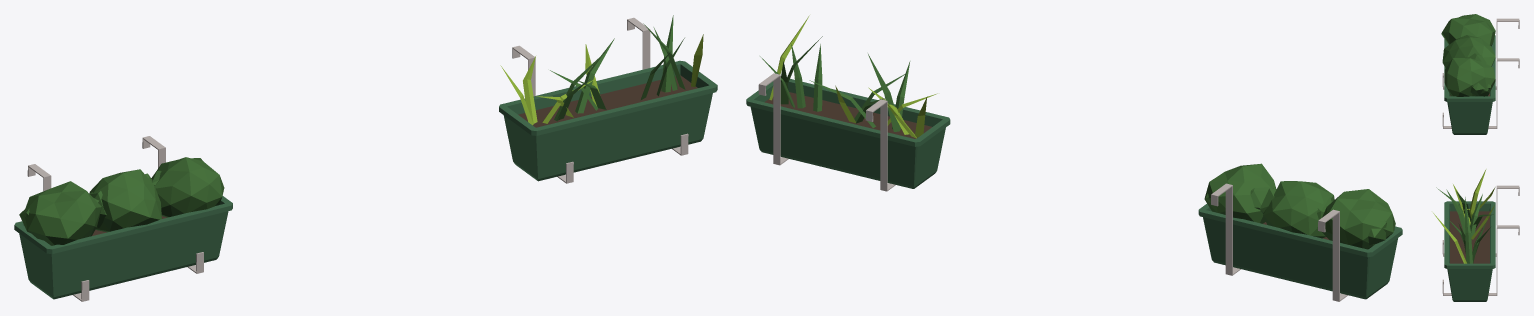
The model's file is SM_Fixture_RailPlanterShort25620_Alu_Green_01.gltf.
3 renders of one model, left to right at view 1: azimuth 30°, elevation 25°; view 2: azimuth 150°, elevation 25°; view 3: azimuth 270°, elevation 25°, orthographic. The views are drawn at different scales.
Visible parts, largest first — view 1: SM_Fixture_RailPlanterShort25620_Alu_Green_01; view 2: SM_Fixture_RailPlanterShort25620_Alu_Green_01; view 3: SM_Fixture_RailPlanterShort25620_Alu_Green_01.
Boxes of the visible parts, x1,y1,x2,y2 form: SM_Fixture_RailPlanterShort25620_Alu_Green_01: (14,15,717,301); SM_Fixture_RailPlanterShort25620_Alu_Green_01: (746,15,1402,301); SM_Fixture_RailPlanterShort25620_Alu_Green_01: (1433,14,1519,301).
Size of the model in its own units: 2.36 by 0.4271 by 0.3775.
1 material, 1 textured.
